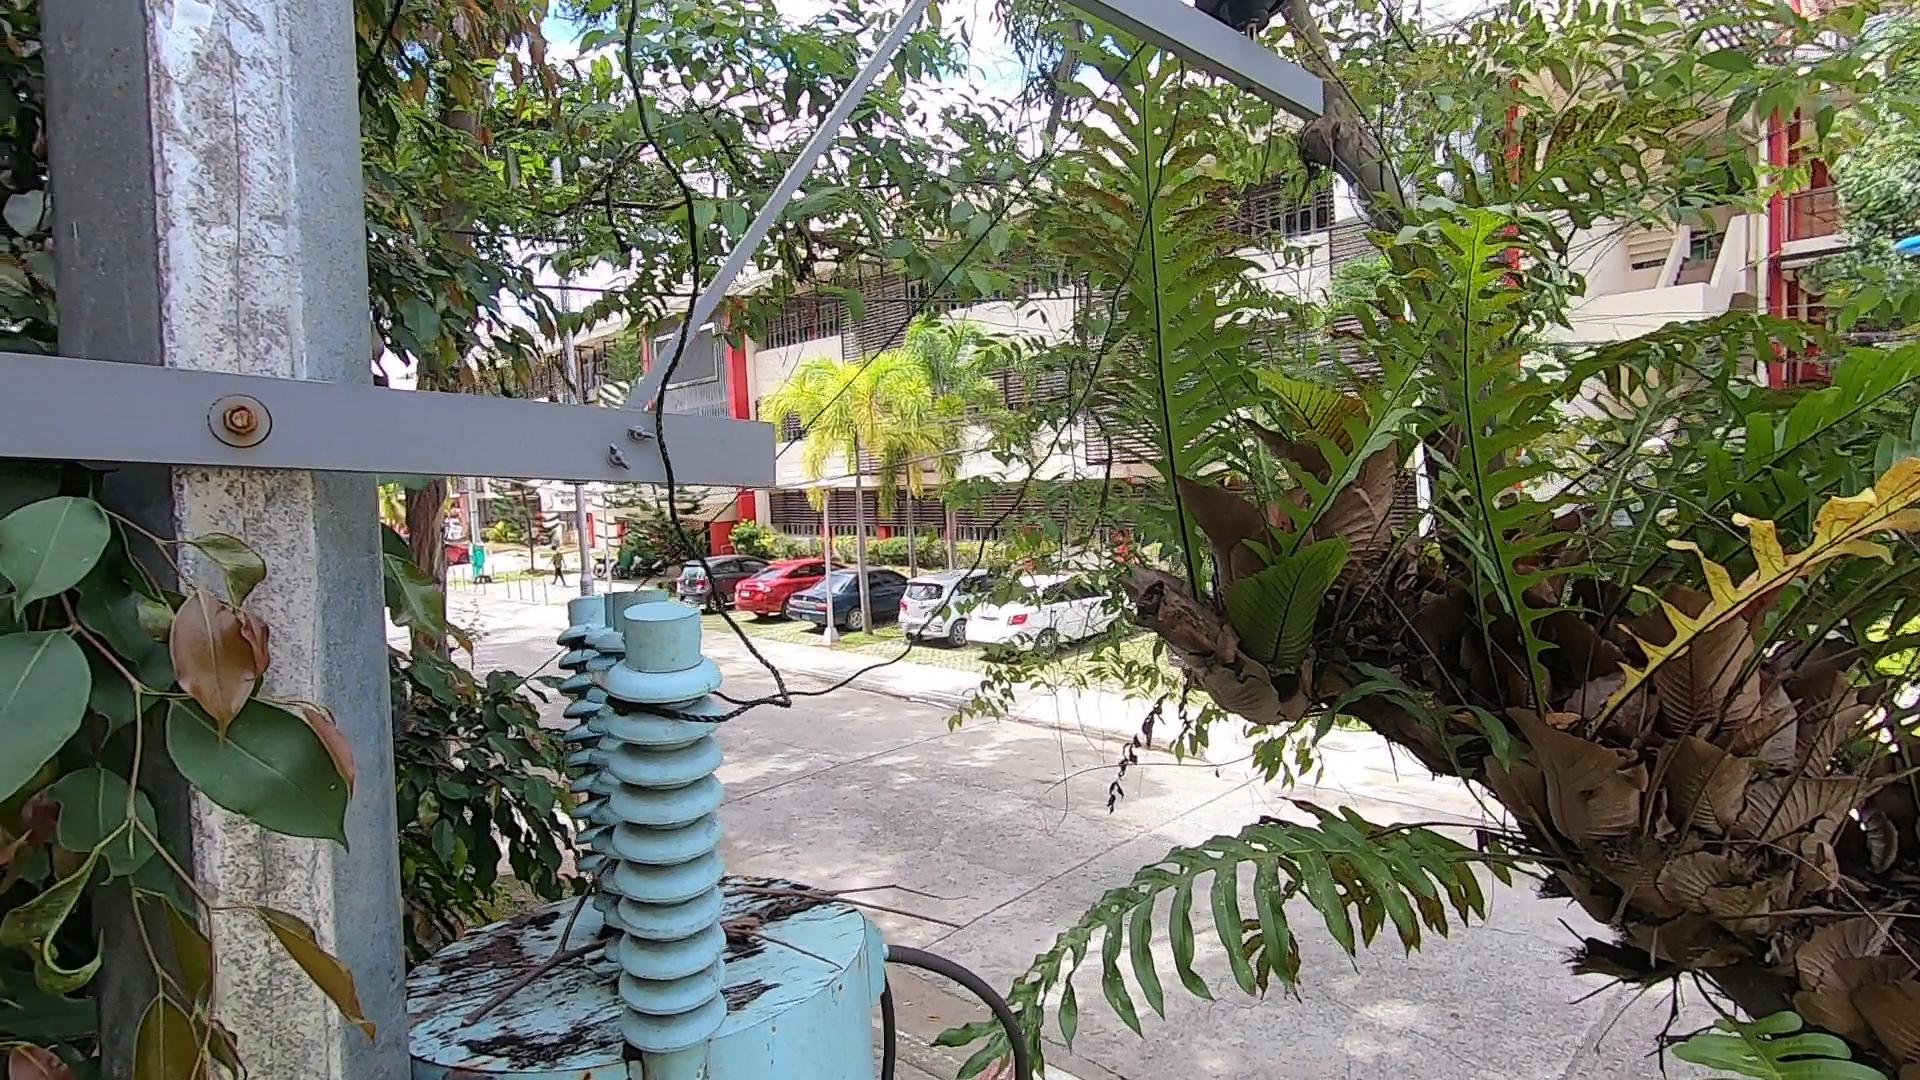branch with leaves: (1, 506, 388, 1068)
leaf: (433, 920, 541, 977), (720, 899, 794, 964)
tree branch: (448, 837, 961, 994)
